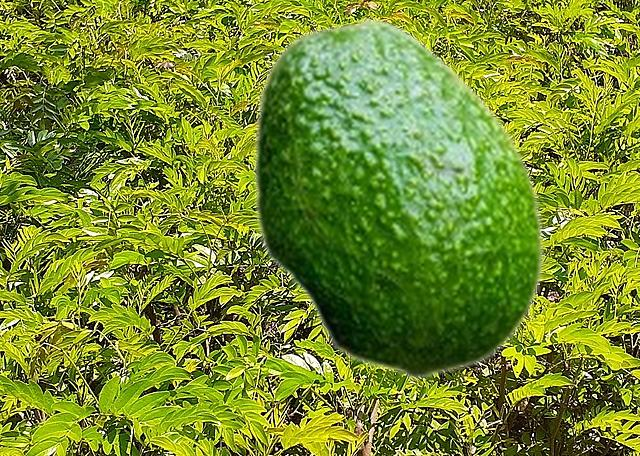avocado: (251, 16, 543, 378)
